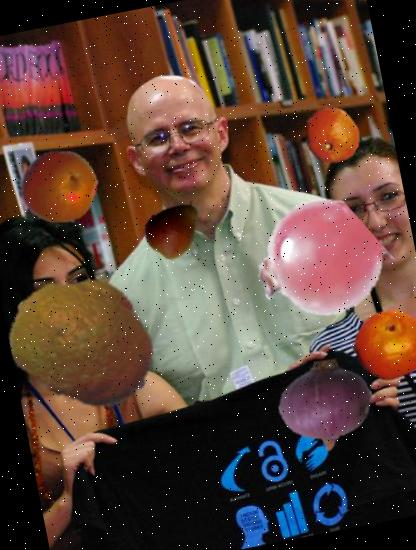Clementine: (344, 299, 416, 390), (296, 100, 366, 169)
Mandarine: (0, 251, 172, 426)
Onion: (270, 350, 381, 461)
Pear: (137, 190, 212, 265)
Redcurrant: (246, 192, 388, 334)
Tangelo: (13, 140, 104, 230)
